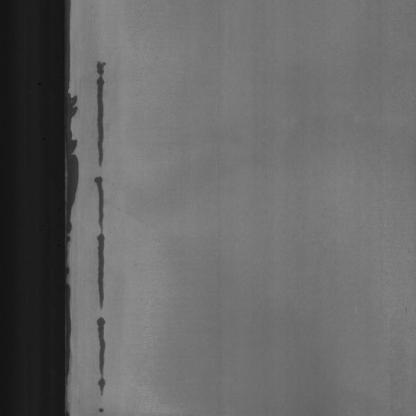oil_spot: (90, 55, 124, 395), (65, 13, 81, 395)
